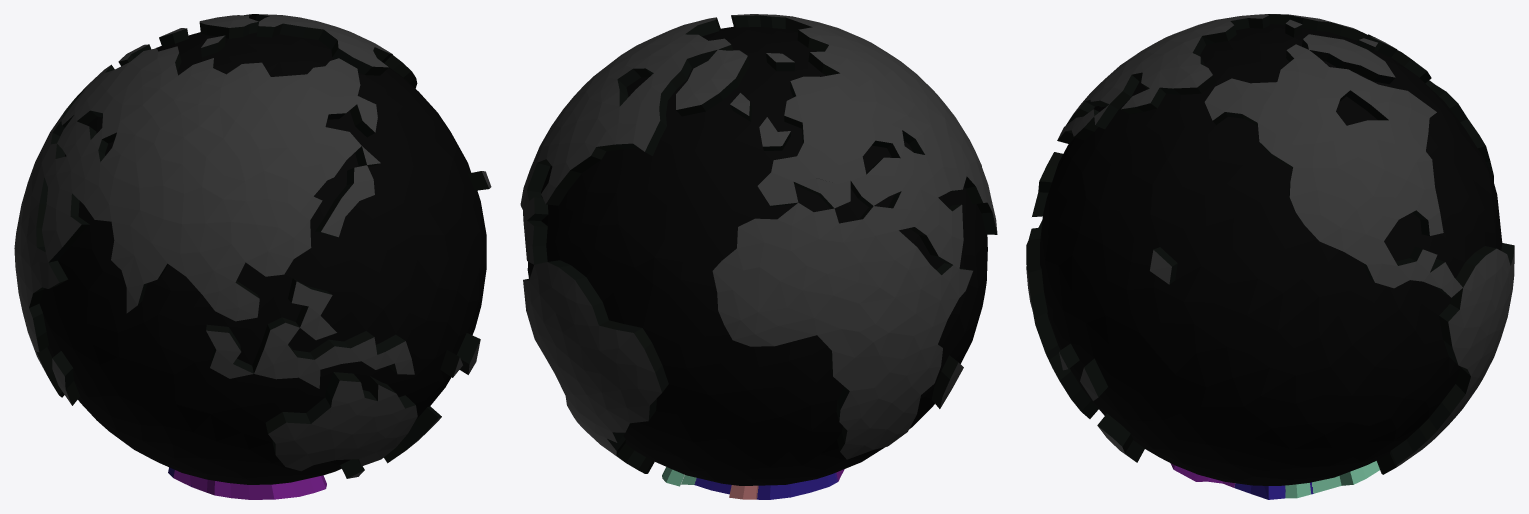
The model's file is mapzones.glb.
The picture shows the model from 3 angles, left to right: view 1: azimuth 30°, elevation 25°; view 2: azimuth 150°, elevation 25°; view 3: azimuth 270°, elevation 25°; orthographic projection.
Visible parts, largest first — view 1: Sphere; view 2: Sphere; view 3: Sphere.
Boxes of the visible parts, x1,y1,x2,y2 form: Sphere: (14, 14, 491, 499); Sphere: (520, 14, 997, 499); Sphere: (1026, 14, 1514, 499).
Bounding box in the file's own units: 2.04 × 2.11 × 2.11.
4 materials, 1 textured.
